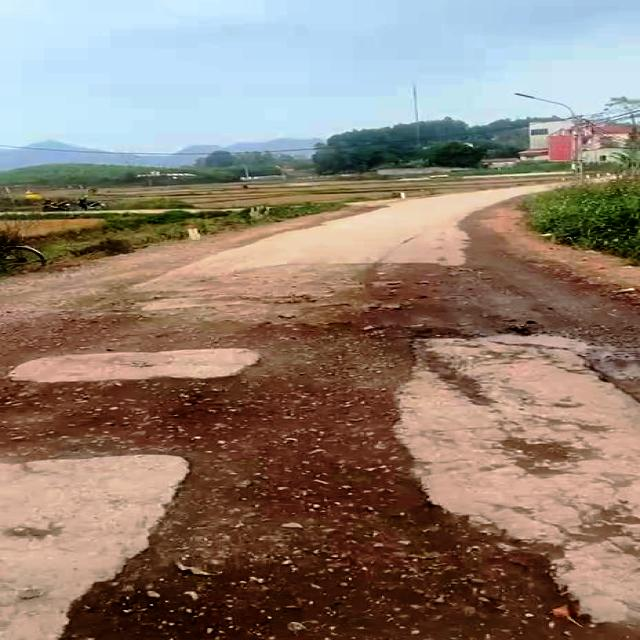pothole: (65, 451, 586, 640)
